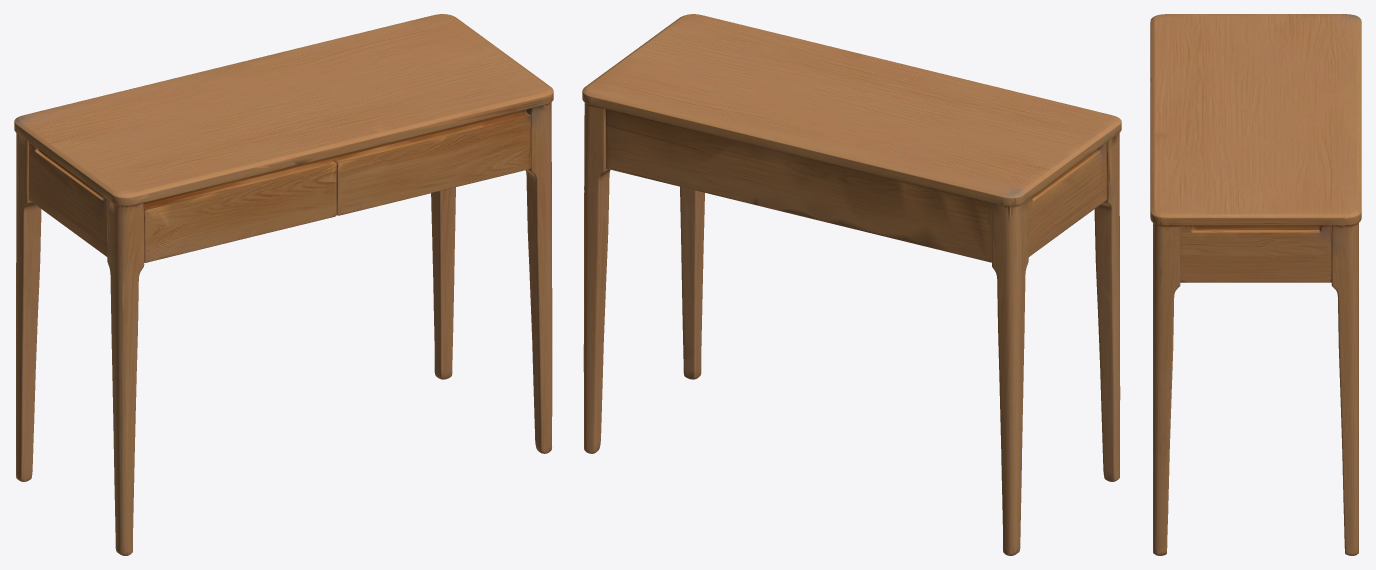
The picture shows the model from 3 angles, left to right: view 1: azimuth 30°, elevation 25°; view 2: azimuth 150°, elevation 25°; view 3: azimuth 270°, elevation 25°; orthographic projection. The views are drawn at different scales.
Visible parts, largest first — view 1: material; view 2: material; view 3: material.
Boxes of the visible parts, box(x1,y1,x2,y2) form: material: box(14, 14, 553, 555); material: box(582, 14, 1121, 555); material: box(1150, 14, 1361, 555).
Bounding box in the file's own units: 0.9061 × 0.7122 × 0.3974.
1 material, 1 textured.
